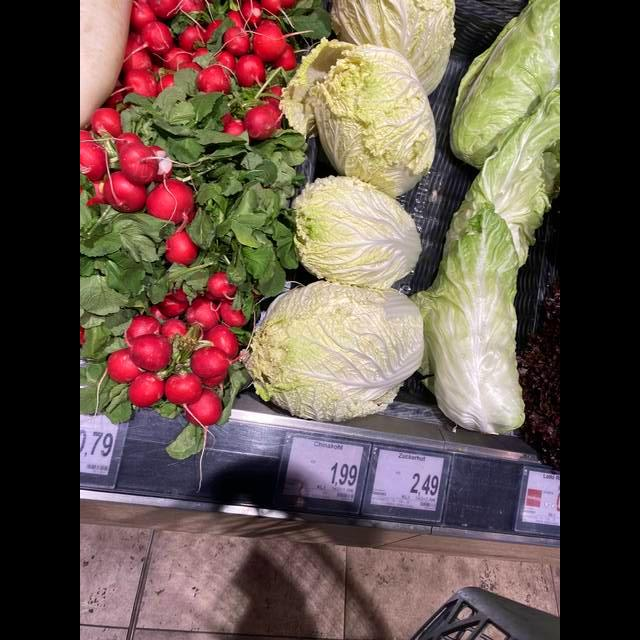cabbage: (240, 283, 424, 420), (285, 40, 436, 198), (291, 179, 420, 288), (331, 0, 453, 93)
